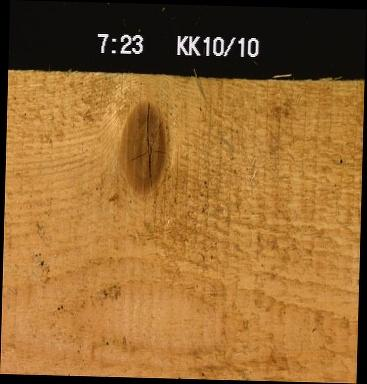sound_knot: (119, 99, 167, 194)
